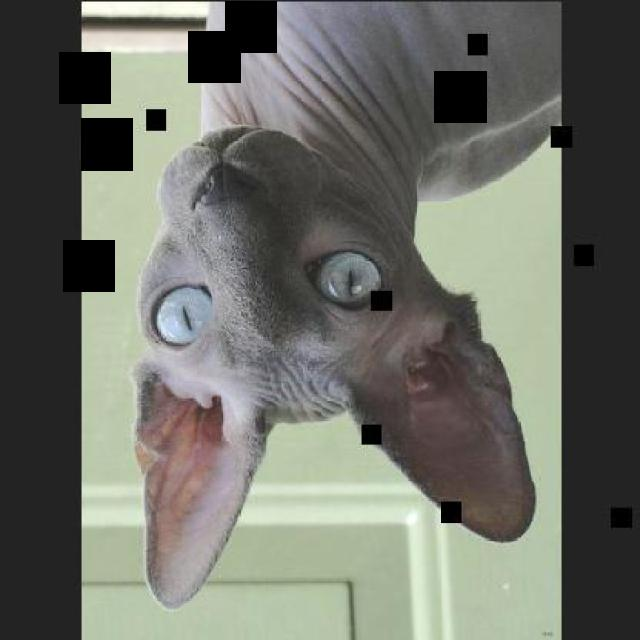unauthorized: (129, 0, 562, 609)
